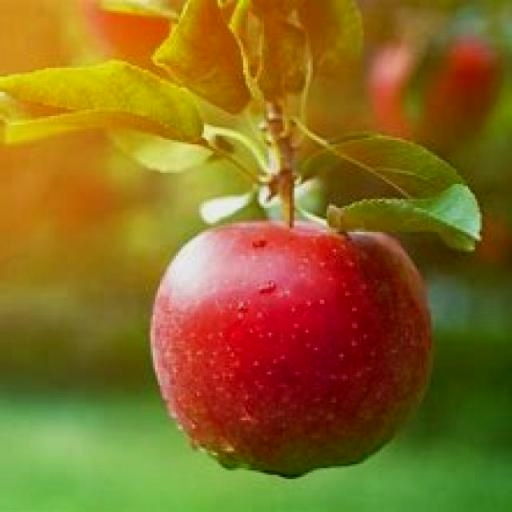fruit: (360, 174, 486, 512), (450, 51, 512, 203), (480, 36, 512, 168), (0, 0, 304, 5)
